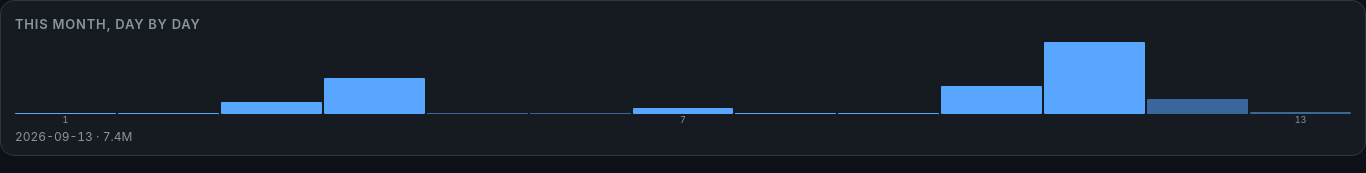
Test: MonthTrend › captions the day you tap
The width and height of the screenshot is (1366, 173).
Click the button named "2026-09-03: 41M" at x=271, y=78, box [221,42,322,114]
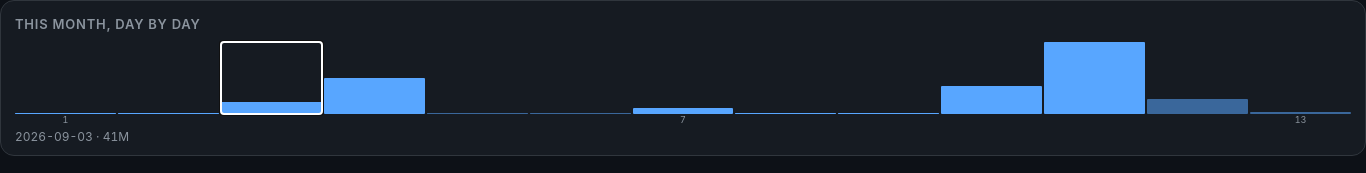
Expected: the text with test id "trend-caption" shows "2026-09-03", [15,129,93,144]
Expected: the text with test id "trend-caption" shows "41M", [103,129,129,144]
